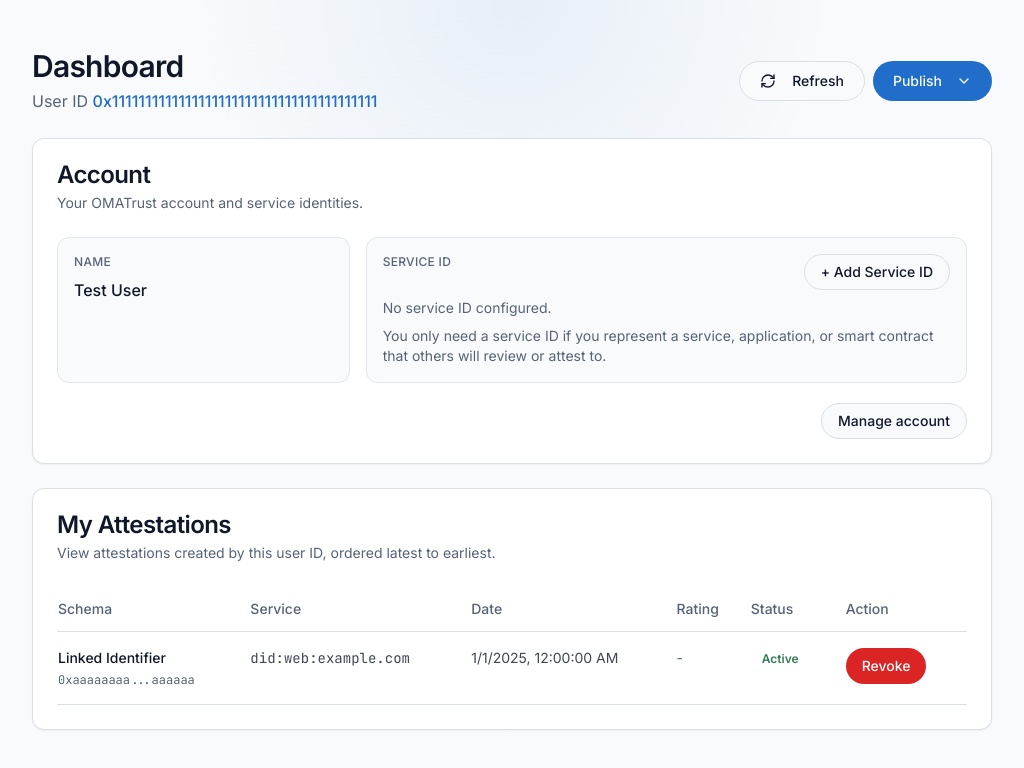
Test: Dashboard Page › opens confirmation dialog when Revoke button is clicked
Step 1. Click the button "Revoke" → {"x": 886, "y": 666}, box [846,648,926,684]
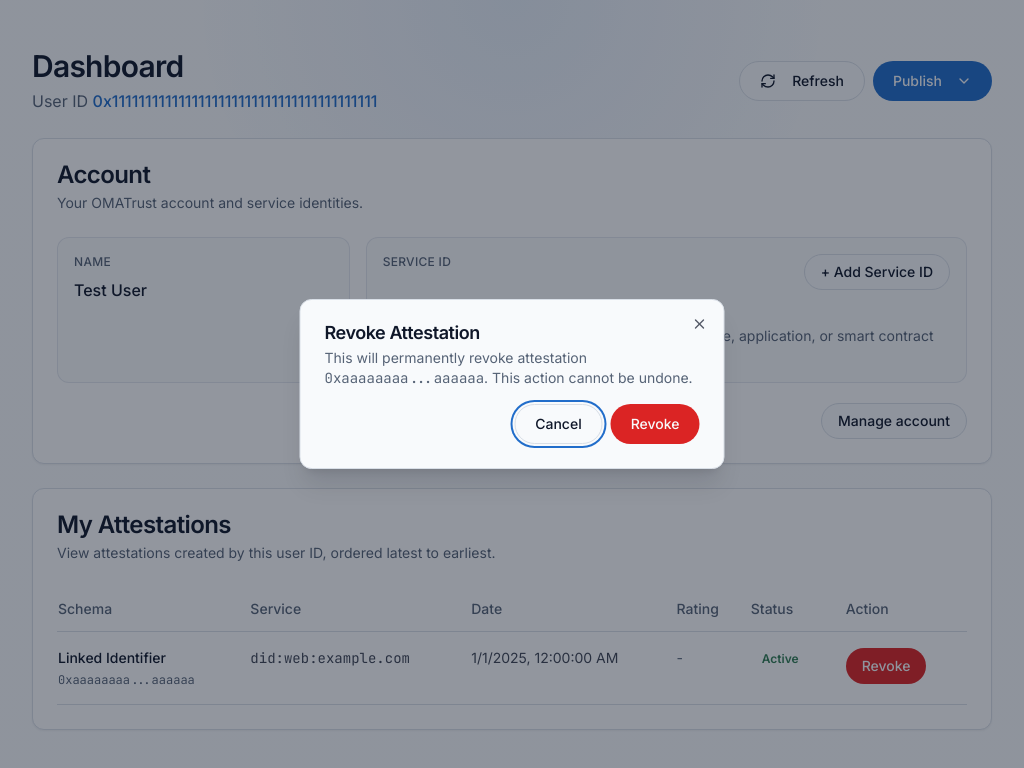
Check: the heading "Revoke Attestation" is shown, box [324,322,480,343]
Check: the text "This will permanently revoke attestation" is shown, box [324,349,587,366]
